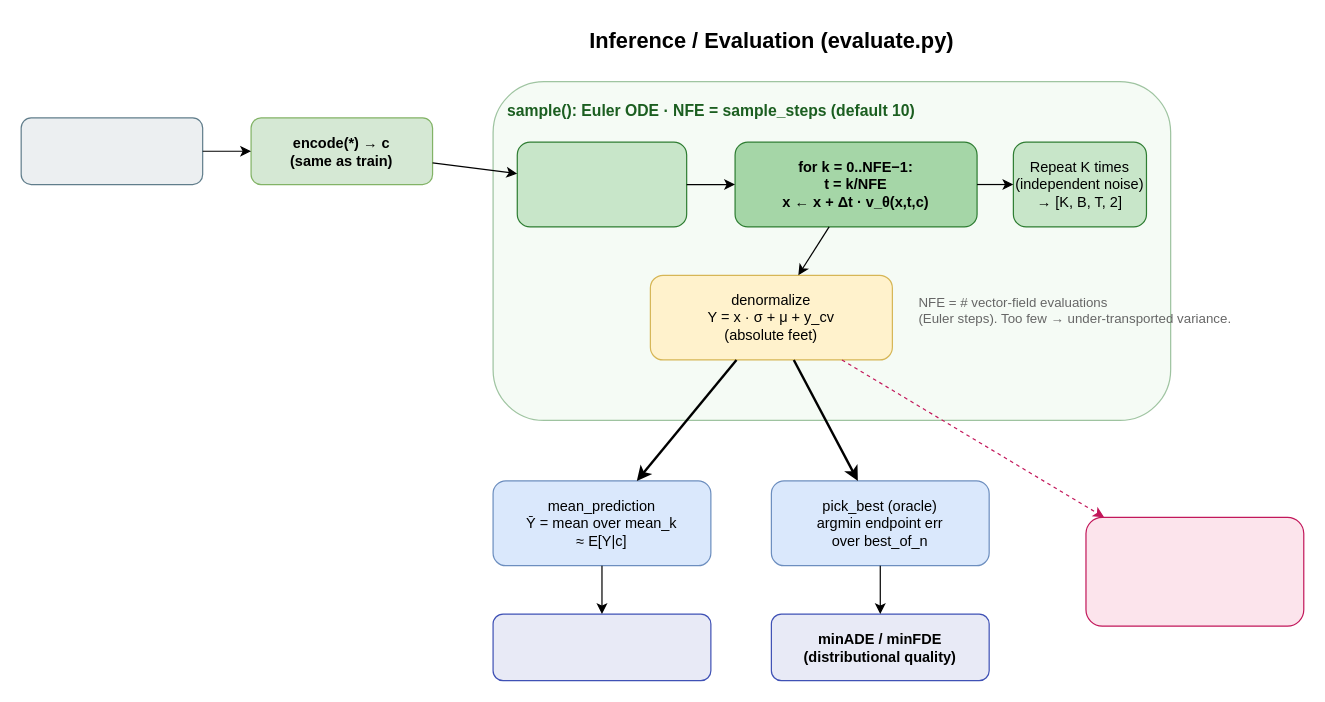
Image size: 1325x702. Some labels were removed from this diagram. Each missing label, with the box of its shape:
diagnose.py NFE sweep {2,5,10,20,50} + spread / calib (collapse check): (1085, 516, 1304, 626)
Load EMA ckpt PFLNet.eval(): (20, 117, 203, 185)
RMSE / ADE / FDE (comparable to EPN μ): (492, 613, 711, 681)
x₀ ~ N(0,I) [B, T_out, 2] residual space: (516, 141, 687, 227)
